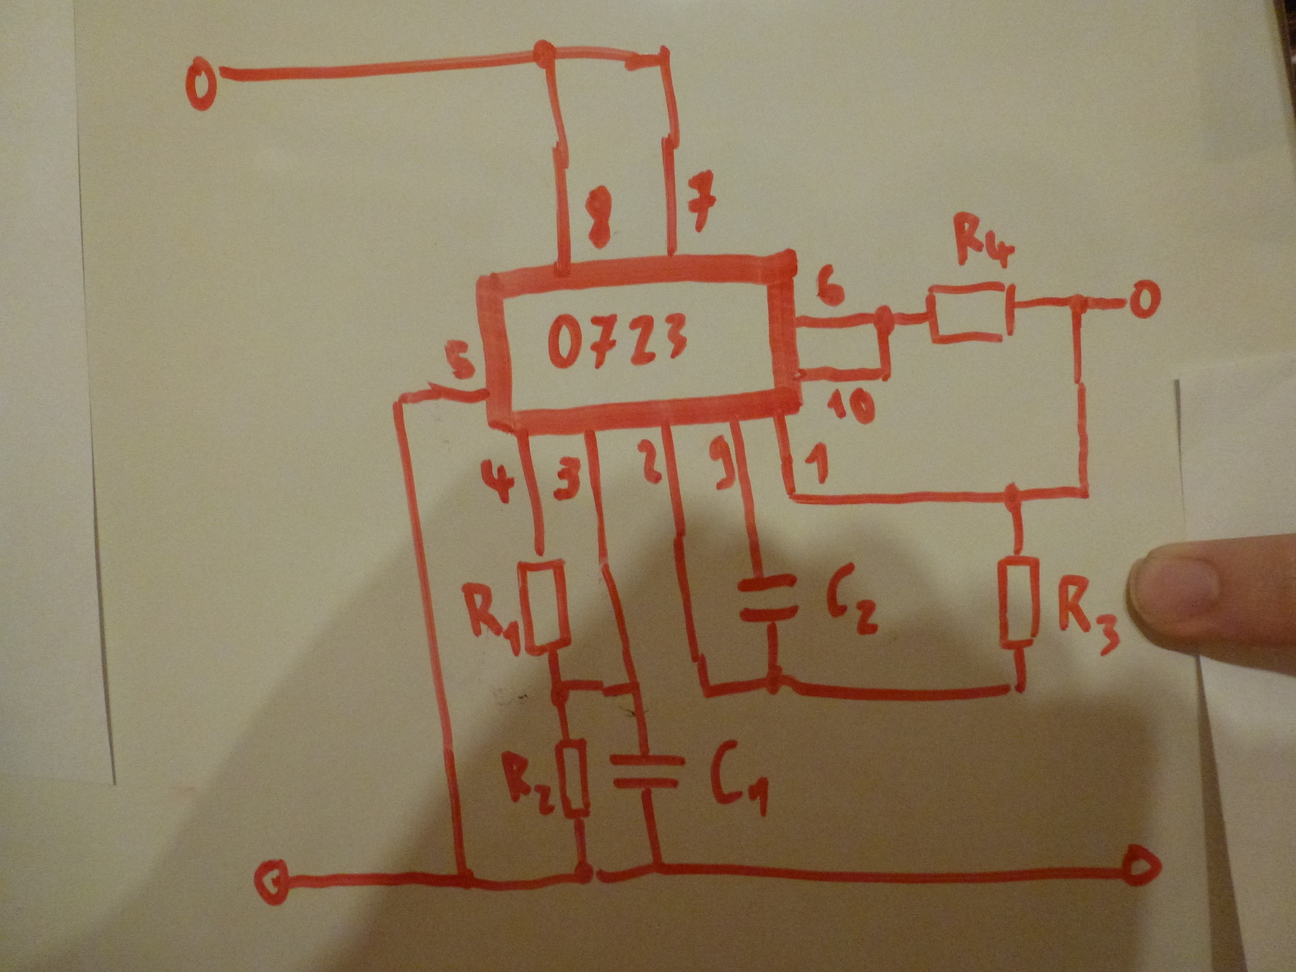capacitor.unpolarized: (731, 561, 809, 631), (605, 740, 690, 806)
integrated_circuit: (473, 248, 804, 437)
junction: (756, 662, 800, 704), (524, 34, 567, 72), (993, 479, 1034, 518), (568, 854, 607, 894), (644, 38, 681, 78), (445, 863, 485, 900), (541, 675, 578, 713), (867, 302, 901, 339), (1067, 477, 1102, 508), (1003, 672, 1036, 704), (1059, 286, 1091, 318), (641, 852, 672, 881), (776, 484, 808, 511), (385, 386, 415, 414), (871, 358, 898, 385), (621, 675, 648, 701), (692, 678, 720, 702)
resistor: (920, 278, 1032, 354), (510, 543, 578, 661), (987, 545, 1049, 659), (551, 727, 598, 827)
terminal: (1113, 837, 1172, 897), (181, 54, 235, 116), (249, 853, 303, 911), (1116, 272, 1172, 326)
text: (543, 308, 697, 375), (1052, 572, 1129, 663), (706, 736, 781, 822), (458, 579, 524, 659), (949, 207, 1023, 276), (823, 558, 885, 639), (497, 747, 556, 820), (578, 183, 628, 254), (681, 168, 727, 239), (473, 452, 524, 508), (826, 387, 882, 429), (703, 432, 741, 493), (810, 260, 851, 311), (547, 454, 584, 509), (441, 335, 483, 383), (631, 436, 666, 487), (803, 440, 836, 487)
